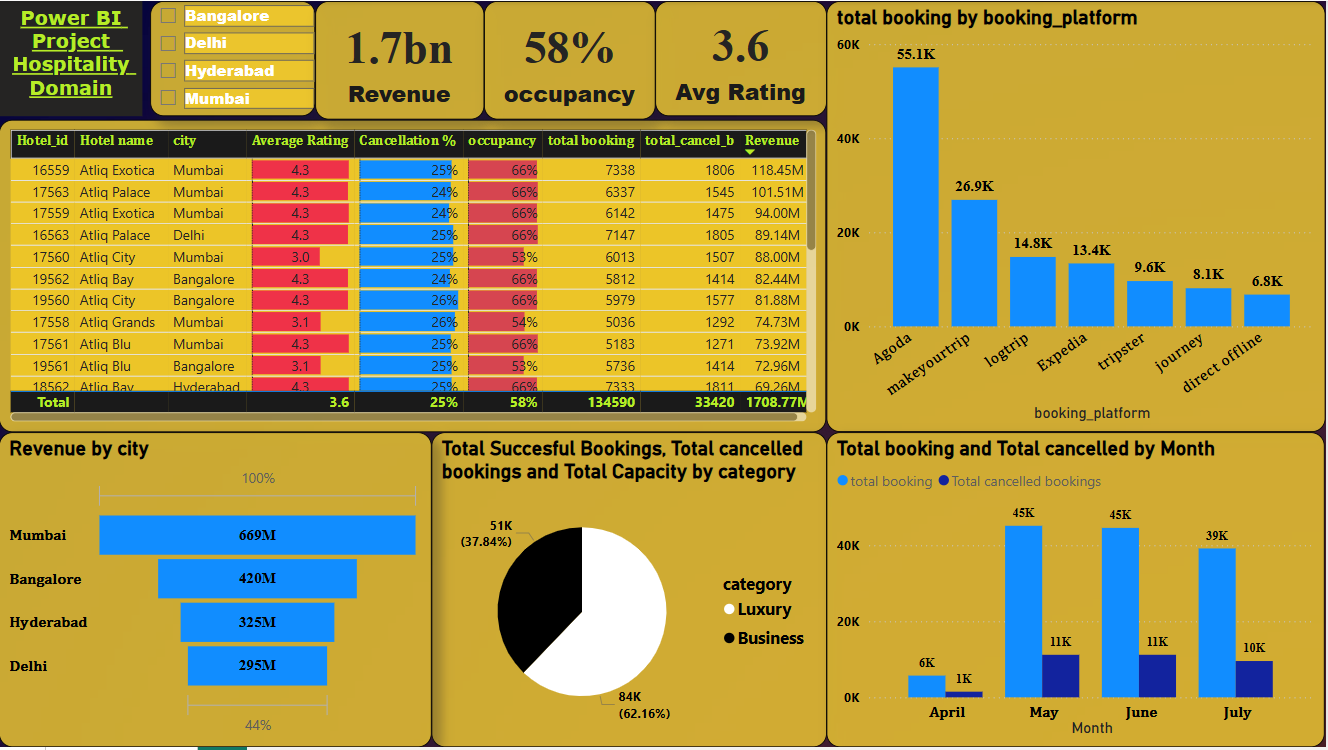

The page's visual inventory and layout, read from the dashboard file:
{"tool":"powerbi","page":{"name":"Page 1","canvas":[1280,720],"ordinal":0},"visuals":[{"type":"tableEx","fields":{"Values":["dim_hotel.property_id","dim_hotel.property_name","dim_hotel.city","key_measure.Average Rating","key_measure.Cancellation %","key_measure.occupancy","key_measure.total booking","key_measure.Total cancelled bookings","key_measure.Revenue"]},"box":[0,114.6,798.7,301.6],"z":0},{"type":"slicer","fields":{"Values":["dim_hotel.city"]},"box":[146,0,159.3,111],"z":1000},{"type":"card","fields":{"Values":["key_measure.Revenue"]},"box":[305.2,0,162.9,114.6],"z":2000},{"type":"card","fields":{"Values":["key_measure.occupancy"]},"box":[468.1,0,165.3,114.6],"z":3000},{"type":"card","fields":{"Values":["key_measure.Average Rating"]},"box":[633.4,0,165.3,111],"z":4000},{"type":"pieChart","fields":{"Category":["dim_hotel.category"],"Y":["key_measure.Total Succesful Bookings"]},"box":[417.4,416.2,381.2,304],"z":5000},{"type":"funnel","fields":{"Category":["dim_hotel.city"],"Y":["key_measure.Revenue"]},"box":[0,416.2,417.4,304],"z":6000},{"type":"textbox","box":[0,0,138.7,111],"z":7000},{"type":"columnChart","fields":{"Category":["fact_bookings.booking_platform"],"Y":["key_measure.total booking"]},"box":[798.7,0,481.4,416.2],"z":8000},{"type":"lineClusteredColumnComboChart","title":"Total booking and Total cancelled by Month","fields":{"Category":["fact_bookings.booking_date.Variation.Date Hierarchy.Month"],"Y":["key_measure.total booking","key_measure.Total cancelled bookings"]},"box":[799,416,481,304],"z":9000}]}

Visuals, with their boxes in screenshot pixels (x1, y1, x2, y2), scaled from the page's 1280x720 canvas onto the 1328x750 screenshot:
tableEx - dim_hotel.property_id x dim_hotel.property_name: [left=0, top=119, right=829, bottom=434]
slicer - dim_hotel.city: [left=151, top=0, right=317, bottom=116]
card - key_measure.Revenue: [left=317, top=0, right=486, bottom=119]
card - key_measure.occupancy: [left=486, top=0, right=657, bottom=119]
card - key_measure.Average Rating: [left=657, top=0, right=829, bottom=116]
pieChart - dim_hotel.category x key_measure.Total Succesful Bookings: [left=433, top=434, right=829, bottom=749]
funnel - dim_hotel.city x key_measure.Revenue: [left=0, top=434, right=433, bottom=749]
textbox: [left=0, top=0, right=144, bottom=116]
columnChart - fact_bookings.booking_platform x key_measure.total booking: [left=829, top=0, right=1327, bottom=434]
"Total booking and Total cancelled by Month" lineClusteredColumnComboChart: [left=829, top=433, right=1327, bottom=749]
